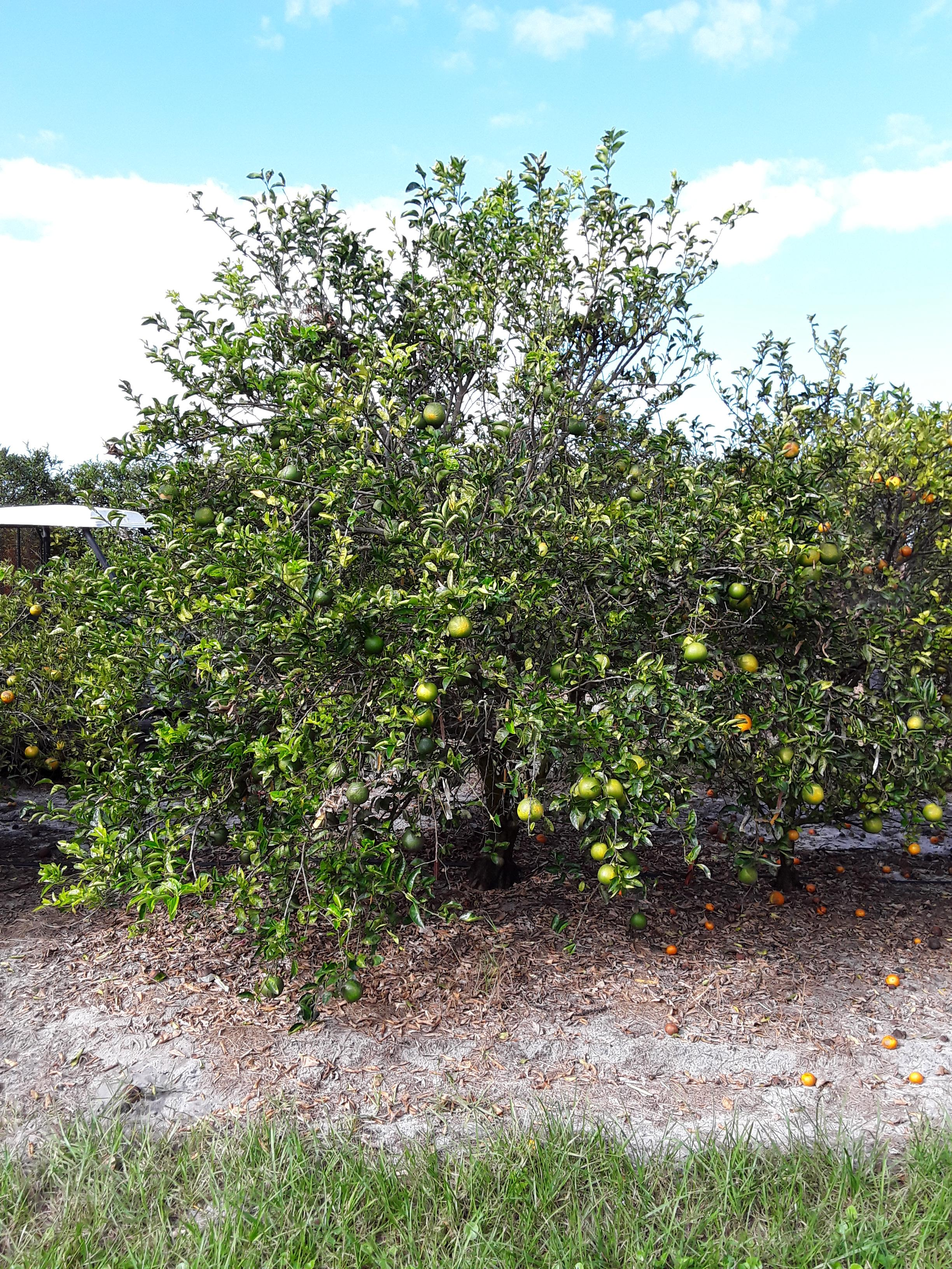fruit_on_ground: (380, 516, 410, 546), (343, 780, 370, 813), (256, 973, 289, 1000), (398, 829, 429, 857), (201, 821, 231, 847), (276, 750, 307, 775), (339, 976, 367, 1003), (816, 540, 845, 566), (422, 399, 448, 426), (734, 651, 762, 676), (791, 545, 824, 566), (313, 581, 336, 611), (578, 775, 603, 802), (682, 643, 710, 667), (249, 758, 277, 782), (602, 776, 626, 804), (450, 617, 472, 646), (800, 783, 826, 807), (518, 797, 542, 823), (363, 630, 385, 658), (323, 760, 348, 784), (737, 866, 763, 889), (408, 709, 437, 729), (355, 805, 379, 829), (589, 648, 612, 673), (860, 813, 885, 836), (334, 423, 360, 445), (415, 684, 437, 710), (354, 734, 380, 756), (597, 863, 619, 889), (905, 712, 929, 735), (565, 415, 590, 437), (282, 463, 305, 486), (781, 436, 803, 460), (620, 846, 642, 870), (267, 428, 292, 449), (155, 483, 180, 504), (544, 378, 564, 404), (611, 788, 631, 814), (726, 595, 758, 611), (733, 712, 756, 734), (727, 581, 751, 602), (192, 506, 216, 526), (460, 653, 481, 675), (776, 745, 798, 766), (590, 842, 610, 865), (238, 845, 261, 865), (923, 801, 945, 821), (801, 565, 824, 584), (415, 736, 436, 756), (628, 481, 647, 503), (317, 815, 343, 831), (595, 571, 619, 588), (411, 410, 430, 431), (550, 660, 568, 682), (21, 744, 42, 762), (301, 498, 323, 515), (885, 474, 904, 493), (607, 584, 629, 600), (56, 643, 75, 661), (256, 721, 276, 738), (48, 667, 66, 684), (628, 463, 645, 480), (454, 672, 472, 688), (814, 521, 835, 534), (897, 542, 913, 559), (591, 379, 608, 395), (597, 412, 611, 431), (97, 697, 113, 713), (0, 689, 17, 704), (919, 492, 937, 506), (5, 674, 22, 688), (46, 754, 60, 770), (757, 510, 775, 521), (41, 665, 55, 679), (29, 604, 44, 617), (939, 695, 952, 710), (861, 565, 877, 577), (886, 580, 900, 593), (875, 559, 888, 572), (222, 514, 236, 526), (784, 827, 796, 841)
fruit_on_tree: (118, 1085, 146, 1103), (629, 911, 650, 933), (797, 1068, 819, 1089), (768, 890, 785, 909), (906, 1073, 923, 1091), (664, 1020, 679, 1039), (715, 828, 730, 845), (735, 946, 749, 963), (886, 973, 900, 990), (816, 903, 830, 918), (930, 925, 945, 939), (906, 843, 922, 856), (835, 863, 849, 877), (706, 787, 721, 800), (882, 1038, 895, 1053), (928, 938, 940, 953), (665, 943, 677, 958), (854, 907, 867, 920), (900, 866, 914, 878), (805, 881, 816, 896), (807, 826, 819, 839), (535, 832, 548, 844), (704, 901, 716, 914), (667, 907, 679, 920), (880, 865, 894, 876), (760, 851, 773, 862), (774, 856, 786, 867), (704, 920, 715, 932), (913, 935, 924, 947), (869, 967, 882, 977), (709, 822, 718, 836), (929, 834, 940, 845), (758, 833, 770, 843), (843, 819, 854, 829), (792, 855, 803, 865), (896, 967, 908, 975), (947, 867, 952, 876)
